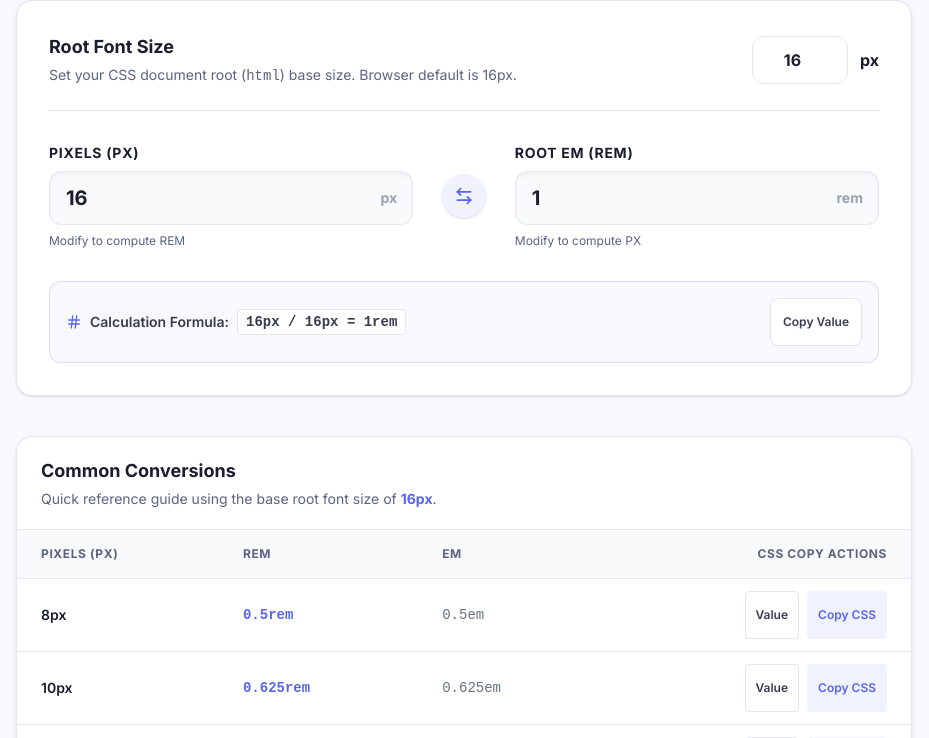
it: PxToRemConverter component › updates REM value when root font size is modified
Replace the text in the field labelled "Pixels (PX)" with "20": x=231, y=198 [49,171,413,225]
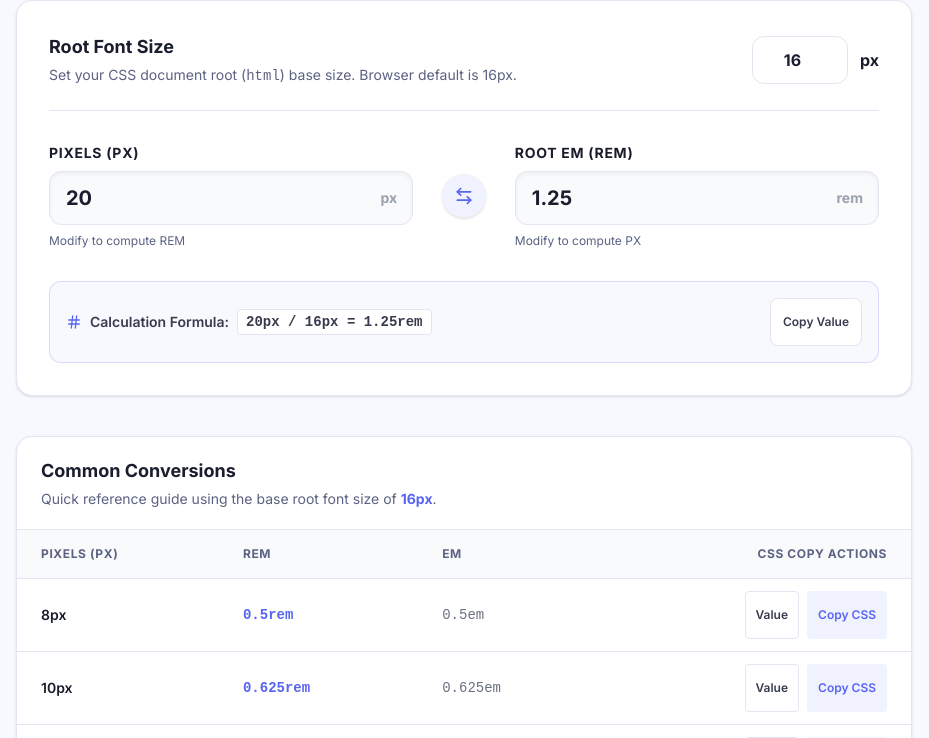
Check: the field labelled "Root EM (REM)" holds "1.25", box [515,171,879,225]
In the number field labelled "Root Font Size": x=800, y=60 [752,36,848,84], type "10"
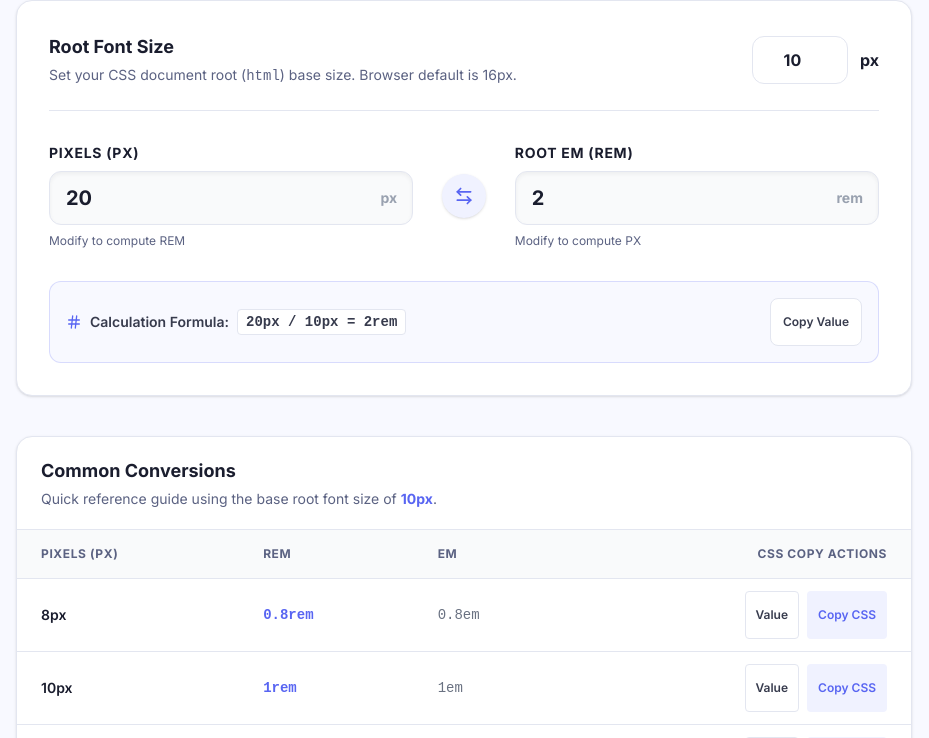
Check: the field labelled "Root EM (REM)" holds "2", box [515,171,879,225]
